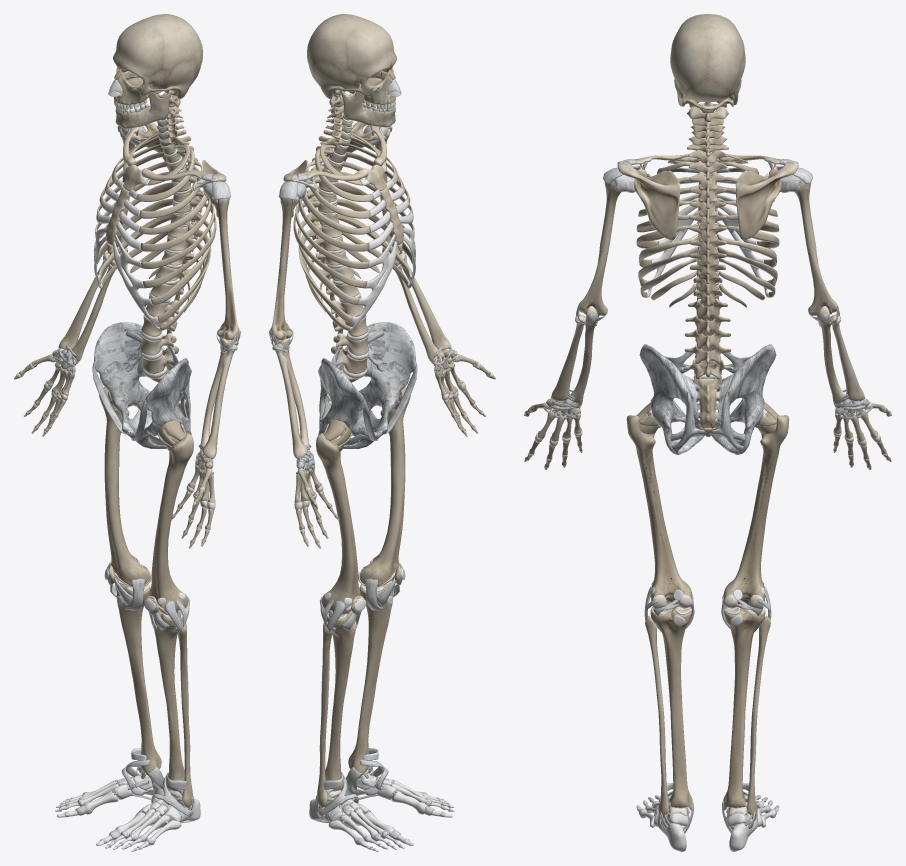
The model's file is destek-web.glb.
3 renders of one model, left to right at view 1: azimuth 30°, elevation 25°; view 2: azimuth 150°, elevation 25°; view 3: azimuth 270°, elevation 25°, orthographic. The views are drawn at different scales.
Parts seen in each view (by area): view 1: Kaburga, Eklem_Bağları, Uyluk_Kemiği, Kalça_, Kafatası, Omurga, Kaval_Kemiği, Ayak_Kemikleri, El_Kemikleri, Ön_Kol, Pazu, Arka_Kol (+7 smaller); view 2: Kaburga, Eklem_Bağları, Uyluk_Kemiği, Kalça_, Kafatası, Omurga, Kaval_Kemiği, Ayak_Kemikleri, El_Kemikleri, Ön_Kol, Pazu, Arka_Kol (+7 smaller); view 3: Eklem_Bağları, Omurga, Kaburga, Uyluk_Kemiği, Kaval_Kemiği, Kalça_, Kafatası, Kürek_Kemiği, Pazu, El_Kemikleri, Baldır_Kemiği, Eklemler (+3 smaller).
Boxes of the visible parts, left/top/right/bottom form: Kaburga: left=94, top=132, right=216, bottom=330; Eklem_Bağları: left=49, top=78, right=240, bottom=850; Uyluk_Kemiği: left=99, top=387, right=193, bottom=612; Kalça_: left=94, top=322, right=191, bottom=448; Kafatası: left=113, top=14, right=202, bottom=99; Omurga: left=140, top=91, right=202, bottom=378; Kaval_Kemiği: left=116, top=584, right=184, bottom=790; Ayak_Kemikleri: left=55, top=773, right=200, bottom=851; El_Kemikleri: left=14, top=349, right=215, bottom=548; Ön_Kol: left=58, top=253, right=236, bottom=458; Pazu: left=106, top=128, right=238, bottom=340; Arka_Kol: left=71, top=247, right=240, bottom=449; Kaburga: left=293, top=133, right=415, bottom=330; Eklem_Bağları: left=269, top=78, right=460, bottom=850; Uyluk_Kemiği: left=316, top=387, right=410, bottom=612; Kalça_: left=318, top=322, right=415, bottom=448; Kafatası: left=307, top=14, right=396, bottom=100; Omurga: left=307, top=91, right=369, bottom=378; Kaval_Kemiği: left=325, top=584, right=393, bottom=790; Ayak_Kemikleri: left=309, top=773, right=454, bottom=851; El_Kemikleri: left=294, top=349, right=495, bottom=548; Ön_Kol: left=273, top=253, right=451, bottom=458; Pazu: left=271, top=125, right=403, bottom=340; Arka_Kol: left=269, top=247, right=438, bottom=449; Eklem_Bağları: left=543, top=159, right=872, bottom=836; Omurga: left=682, top=97, right=733, bottom=379; Kaburga: left=636, top=154, right=779, bottom=307; Uyluk_Kemiği: left=626, top=412, right=789, bottom=604; Kaval_Kemiği: left=650, top=608, right=765, bottom=809; Kalça_: left=639, top=344, right=776, bottom=454; Kafatası: left=670, top=14, right=745, bottom=101; Kürek_Kemiği: left=617, top=161, right=798, bottom=239; Pazu: left=578, top=175, right=837, bottom=316; El_Kemikleri: left=524, top=398, right=891, bottom=469; Baldır_Kemiği: left=645, top=615, right=770, bottom=820; Eklemler: left=524, top=175, right=891, bottom=825.
Size of the model in its own units: 0.3028 by 1.84 by 0.7439.
Materials: 22 (18 with a texture image).
